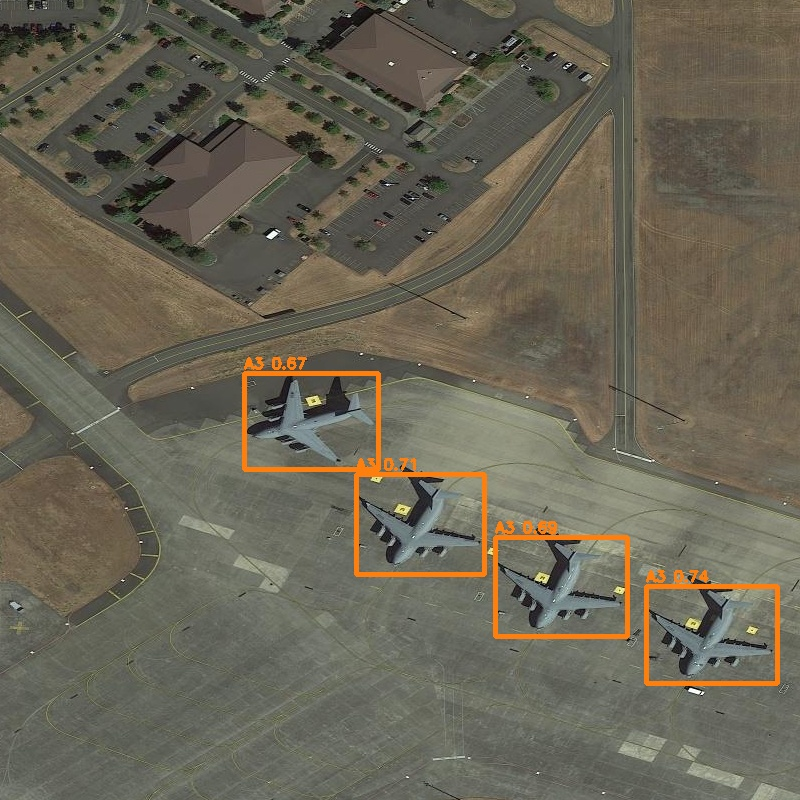A3: (495, 537, 627, 636), (244, 373, 378, 469), (356, 474, 484, 574), (646, 586, 777, 683)
